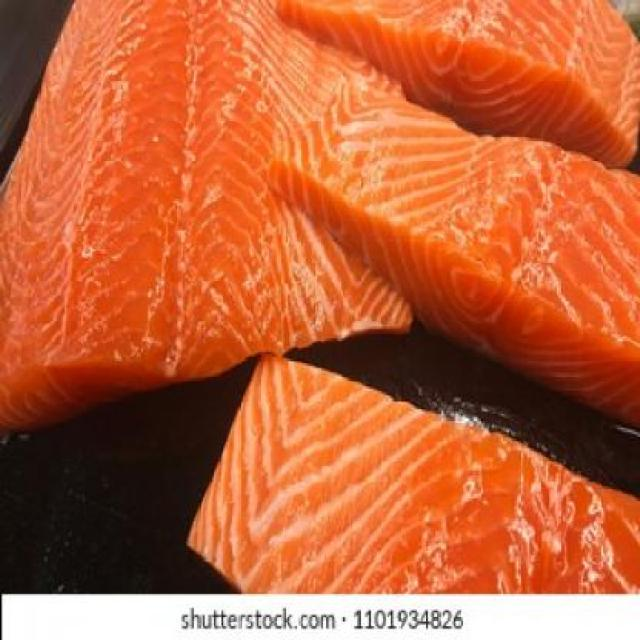salmon: (3, 1, 431, 404), (269, 57, 640, 434), (194, 340, 640, 596), (269, 2, 640, 192)
